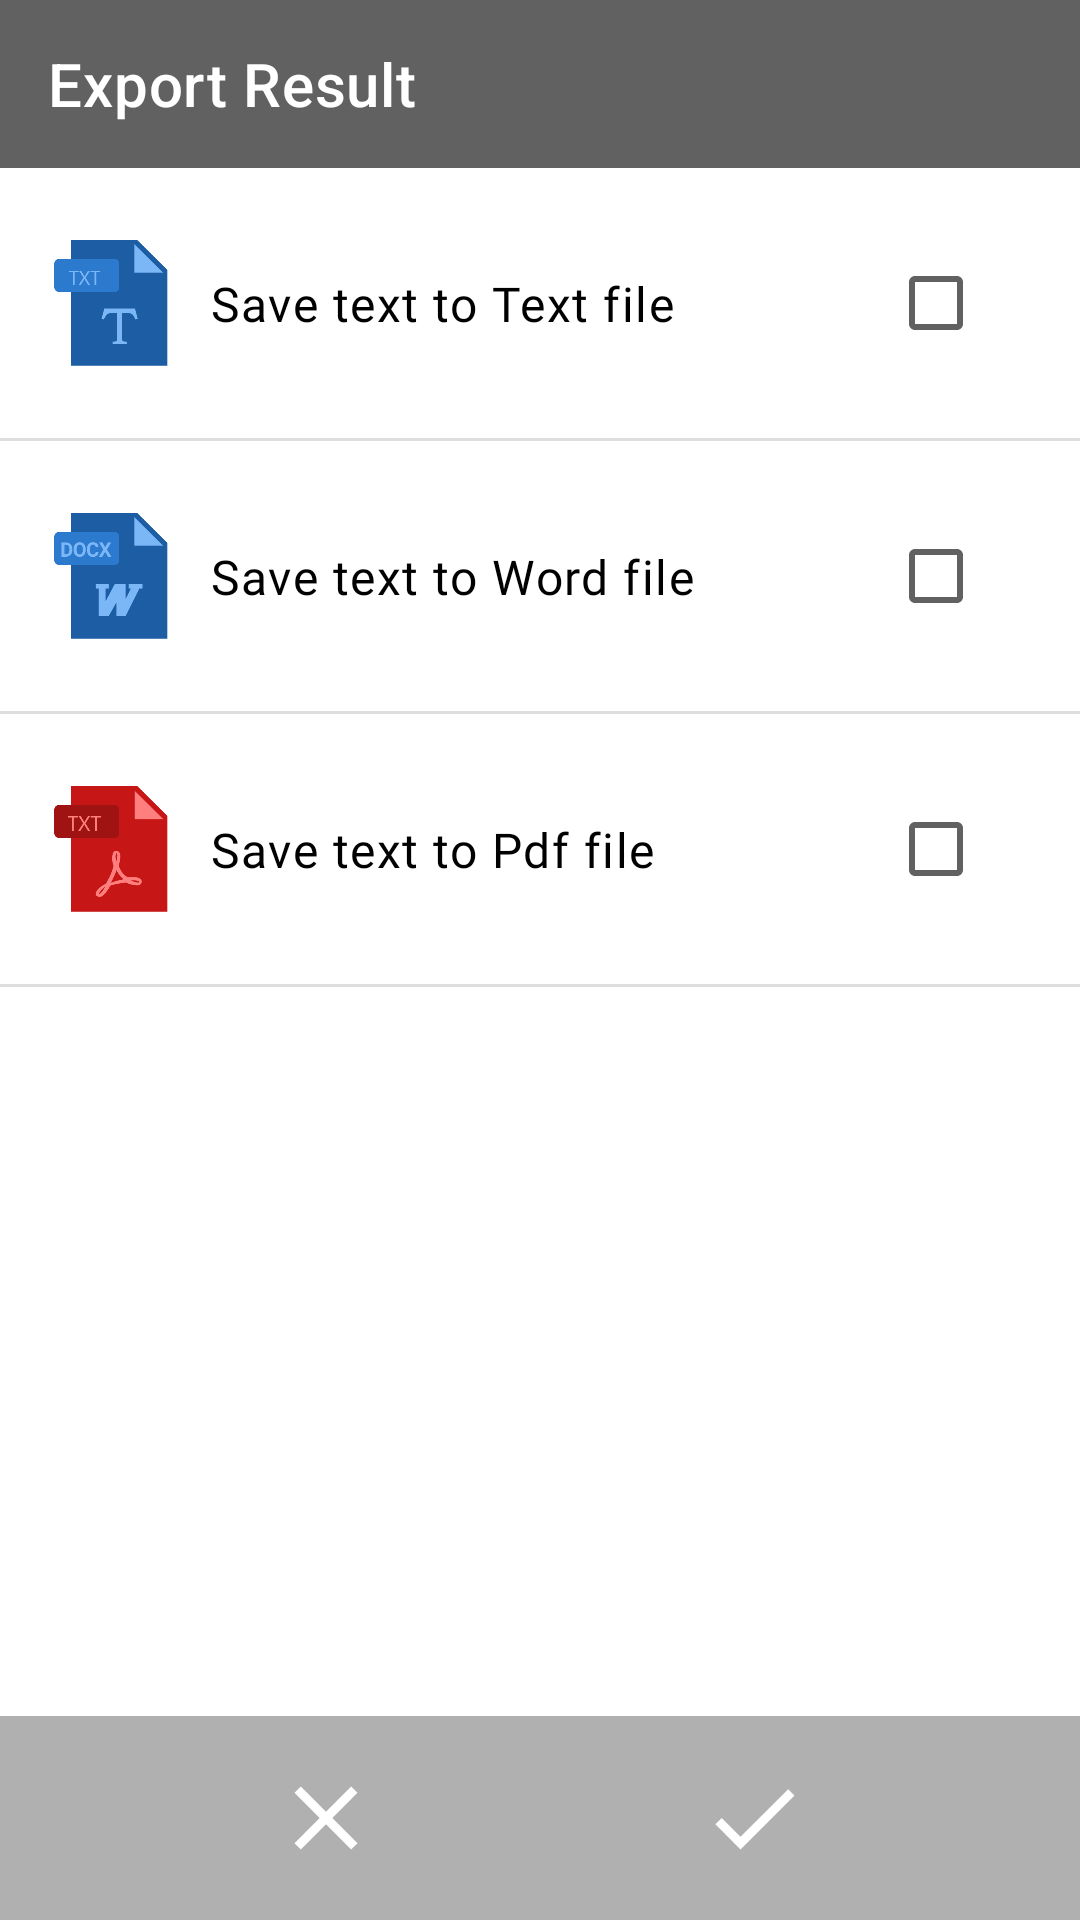

Icons on this 1080×1920 Android screen, each with the point to tap as point (x, y):
apply button: point (754, 1819)
cancel button: point (326, 1818)
